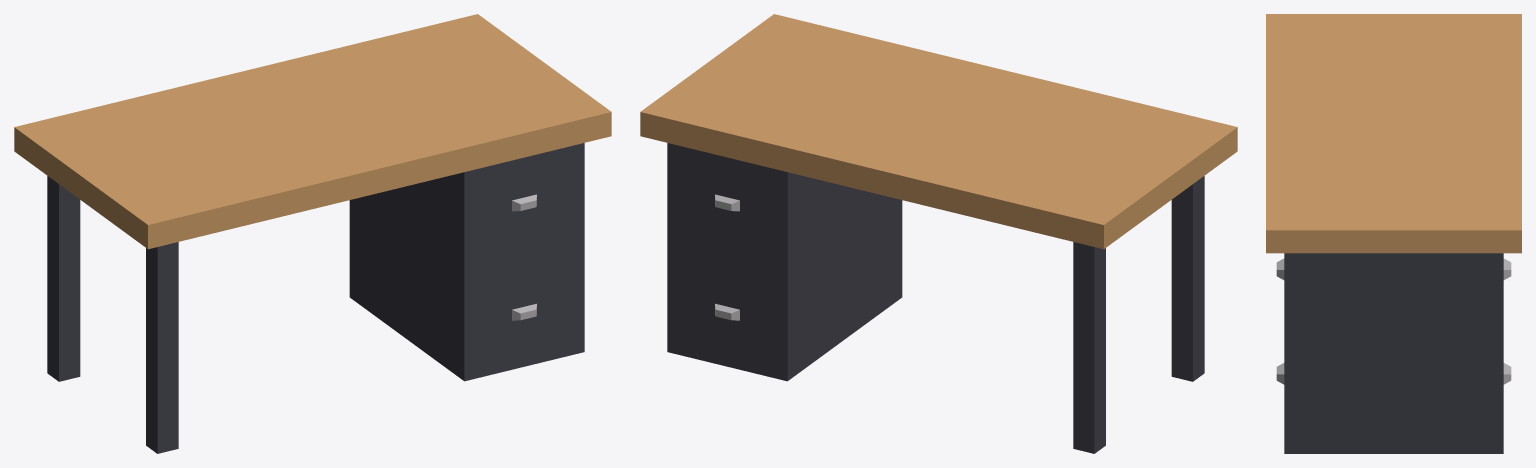
The model's file is Office_Desk.glb.
3 renders of one model, left to right at view 1: azimuth 30°, elevation 25°; view 2: azimuth 150°, elevation 25°; view 3: azimuth 270°, elevation 25°, orthographic. The views are drawn at different scales.
Visible parts, largest first — view 1: Desk; view 2: Desk; view 3: Desk.
Boxes of the visible parts, bbox=[...] form: Desk: bbox=[14, 14, 611, 453]; Desk: bbox=[640, 14, 1237, 453]; Desk: bbox=[1266, 14, 1521, 453].
Bounding box in the file's own units: 2 × 1 × 1.
